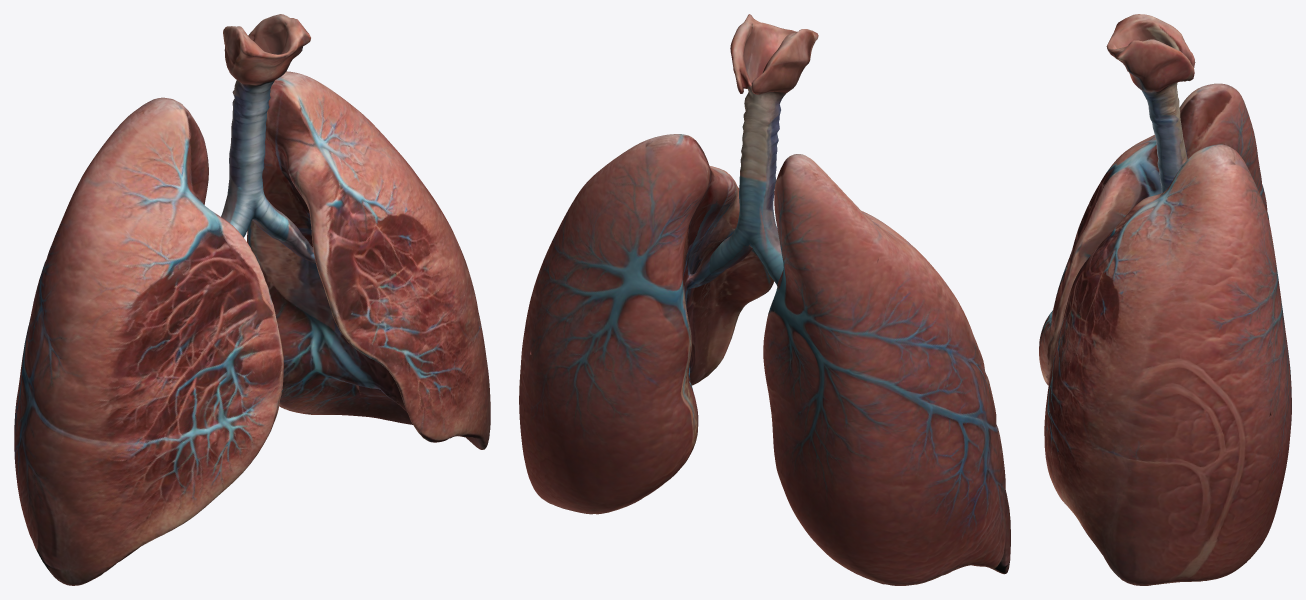
File: refined_human lungs.glb
3 renders of one model, left to right at view 1: azimuth 30°, elevation 25°; view 2: azimuth 150°, elevation 25°; view 3: azimuth 270°, elevation 25°, orthographic. The views are drawn at different scales.
Size of the model in its own units: 1.9 by 2 by 0.9525.
1 material, 1 textured.
